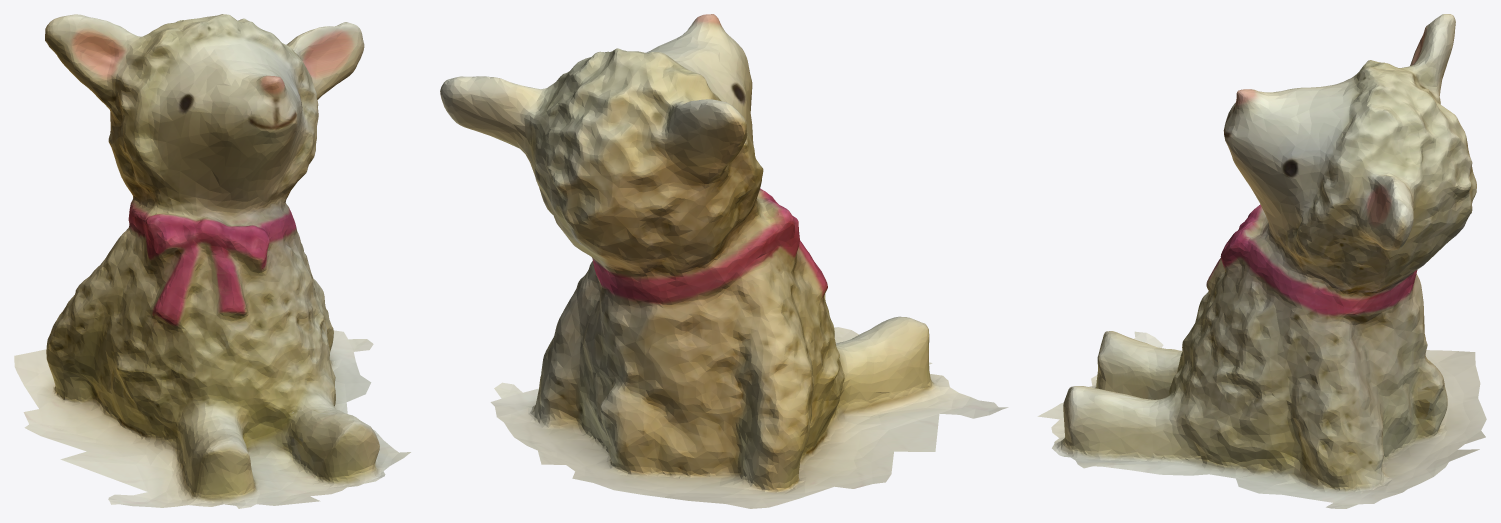
Rendered from sheep_cup.fbx.
3 views of the same model, side by side, from view 1: azimuth 30°, elevation 25°; view 2: azimuth 150°, elevation 25°; view 3: azimuth 270°, elevation 25° (orthographic). The views are drawn at different scales.
Parts seen in each view (by area): view 1: Texture_1, Texture_0; view 2: Texture_0, Texture_1; view 3: Texture_1, Texture_0.
Part boxes in pixels (<box>): Texture_1: <box>14,14,410,508</box>; Texture_0: <box>14,14,223,387</box>; Texture_0: <box>514,50,796,508</box>; Texture_1: <box>440,14,1008,508</box>; Texture_1: <box>1037,14,1485,508</box>; Texture_0: <box>1375,25,1486,487</box>.
Size of the model in its own units: 15.76 by 15.96 by 14.66.
